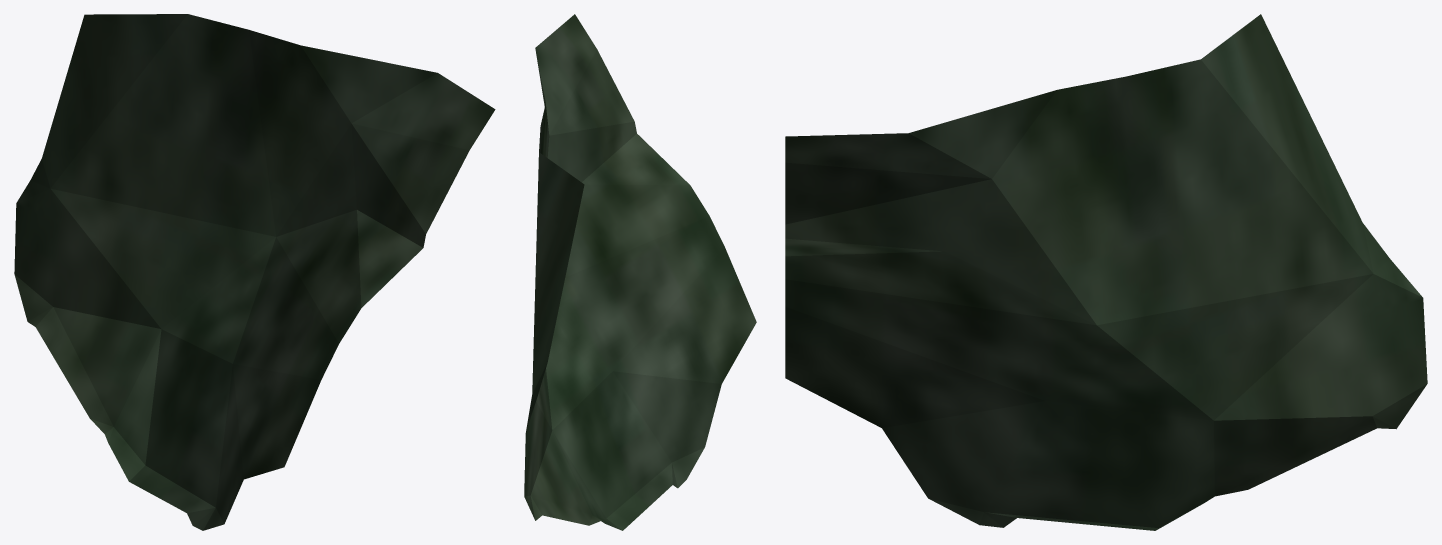
3 views of the same model, side by side, from view 1: azimuth 30°, elevation 25°; view 2: azimuth 150°, elevation 25°; view 3: azimuth 270°, elevation 25° (orthographic). The views are drawn at different scales.
Size of the model in its own units: 0.487 by 0.9584 by 1.08.
1 material, 1 textured.
